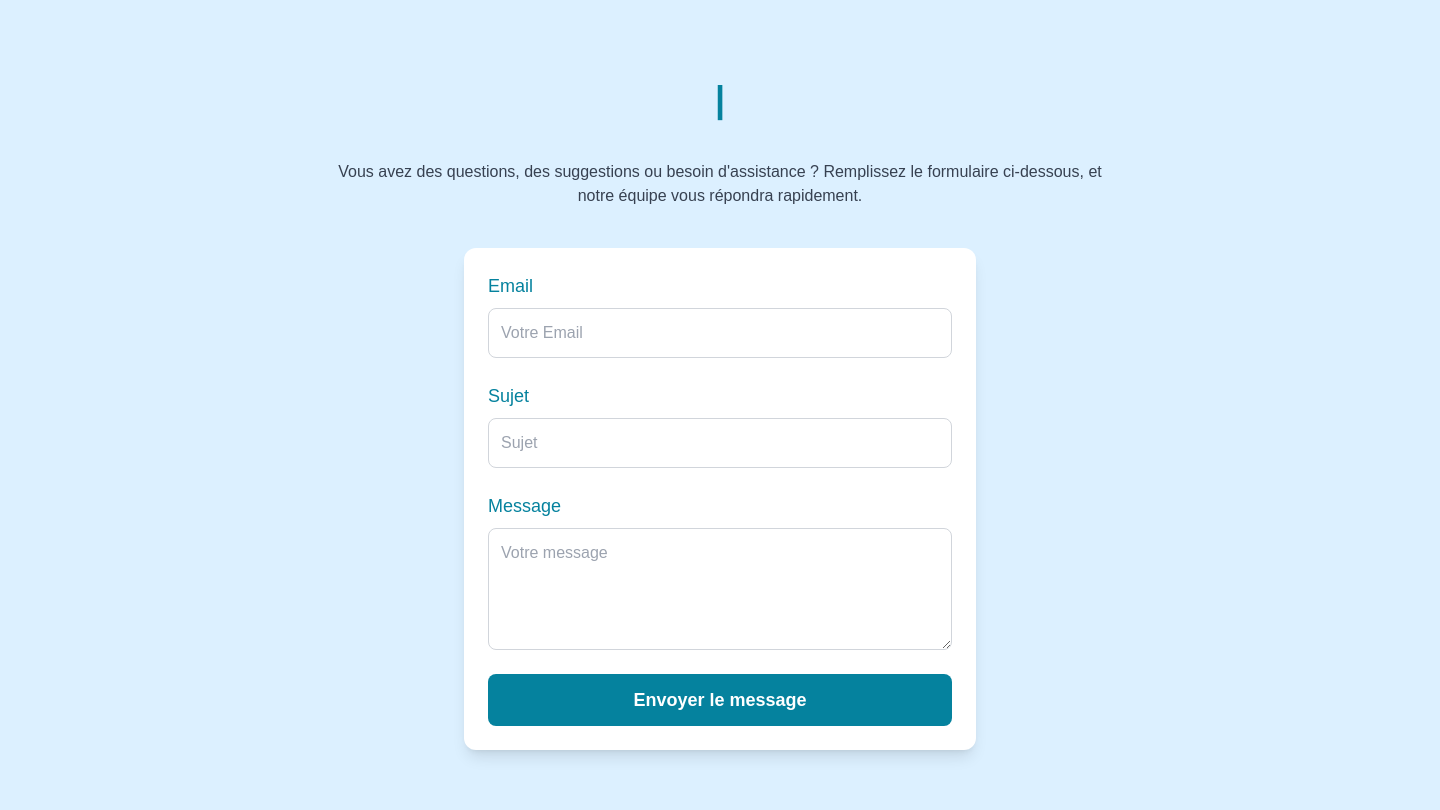
Test: Contact Component › envoie le formulaire avec succès et affiche un message de confirmation
The width and height of the screenshot is (1440, 810).
Type "test@example.com" into the field labelled "Email" at (720, 333), box top-left (488, 308), bottom-right (952, 358)
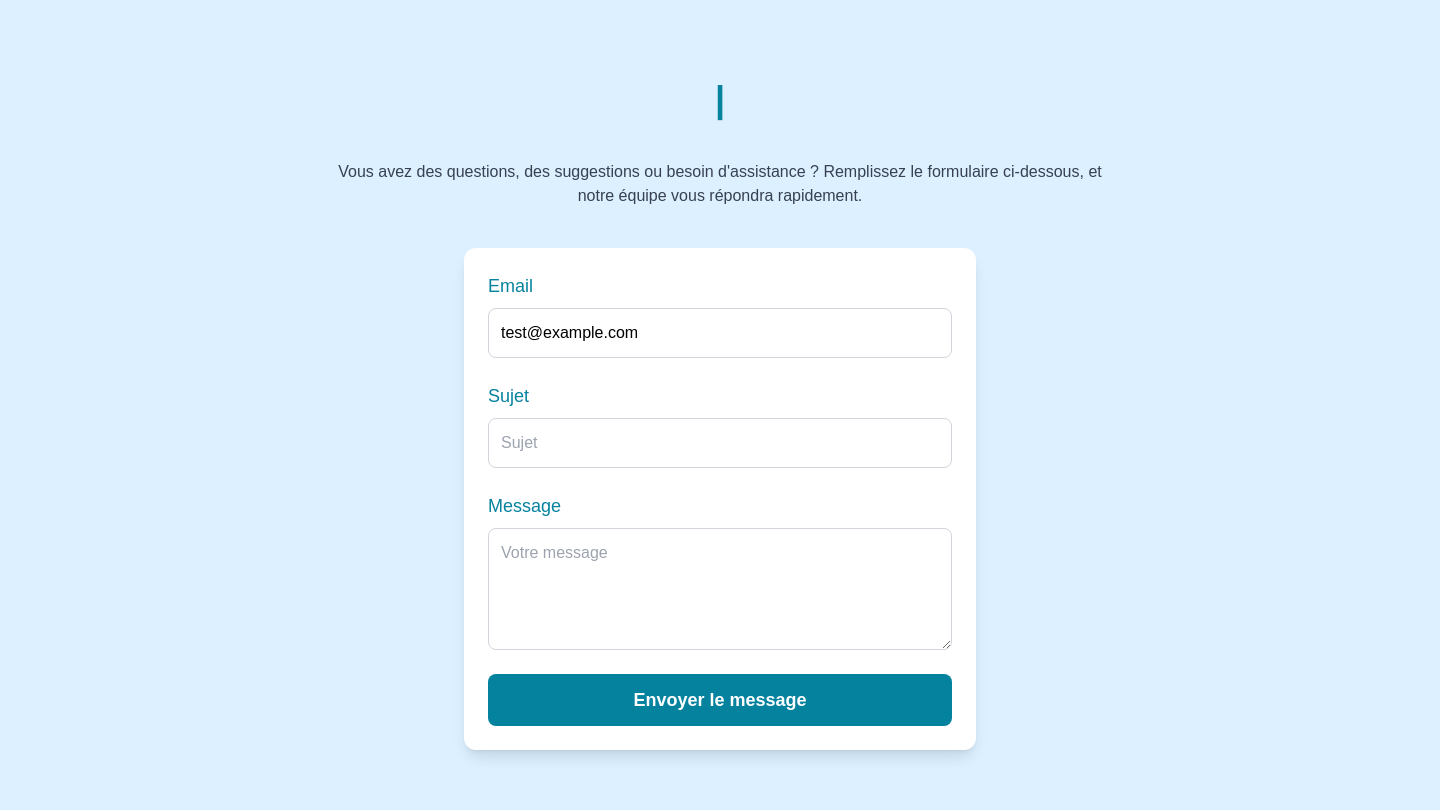
Type "Sujet test" into the field labelled "Sujet" at (720, 443), box top-left (488, 418), bottom-right (952, 468)
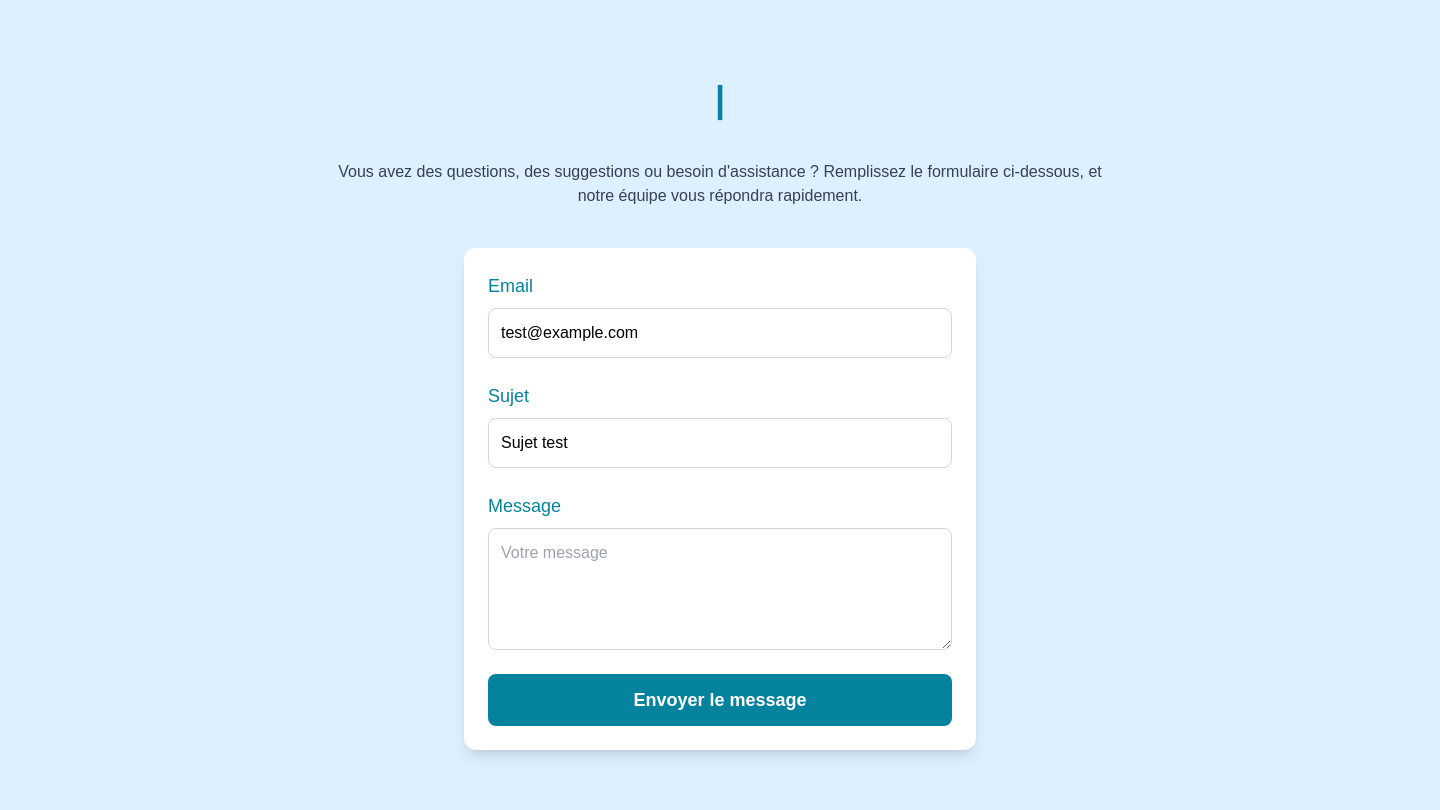
Type "Ceci est un message de test." into the text box labelled "Message" at (720, 589), box top-left (488, 528), bottom-right (952, 650)
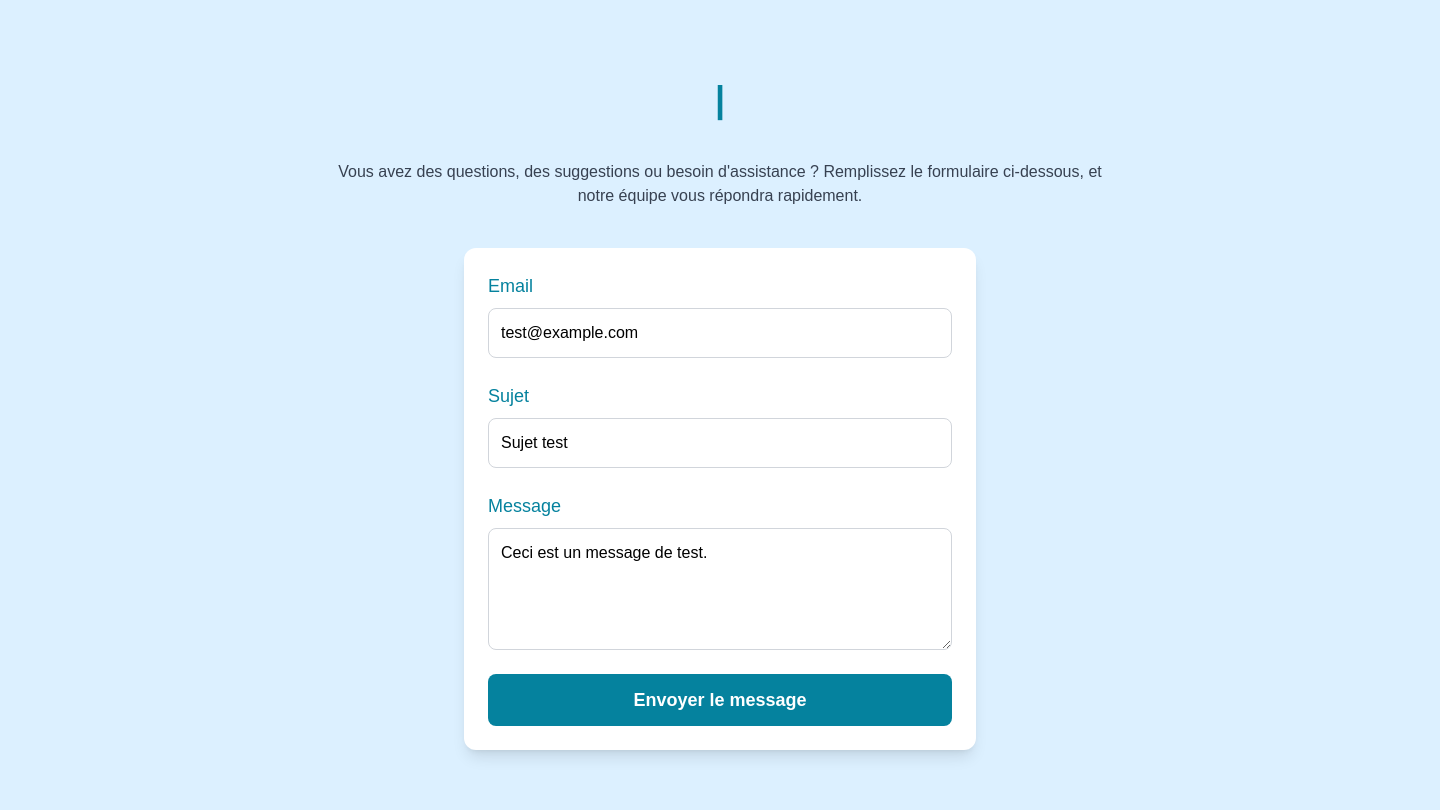
Click the button "Envoyer le message" at (720, 700), box top-left (488, 674), bottom-right (952, 726)
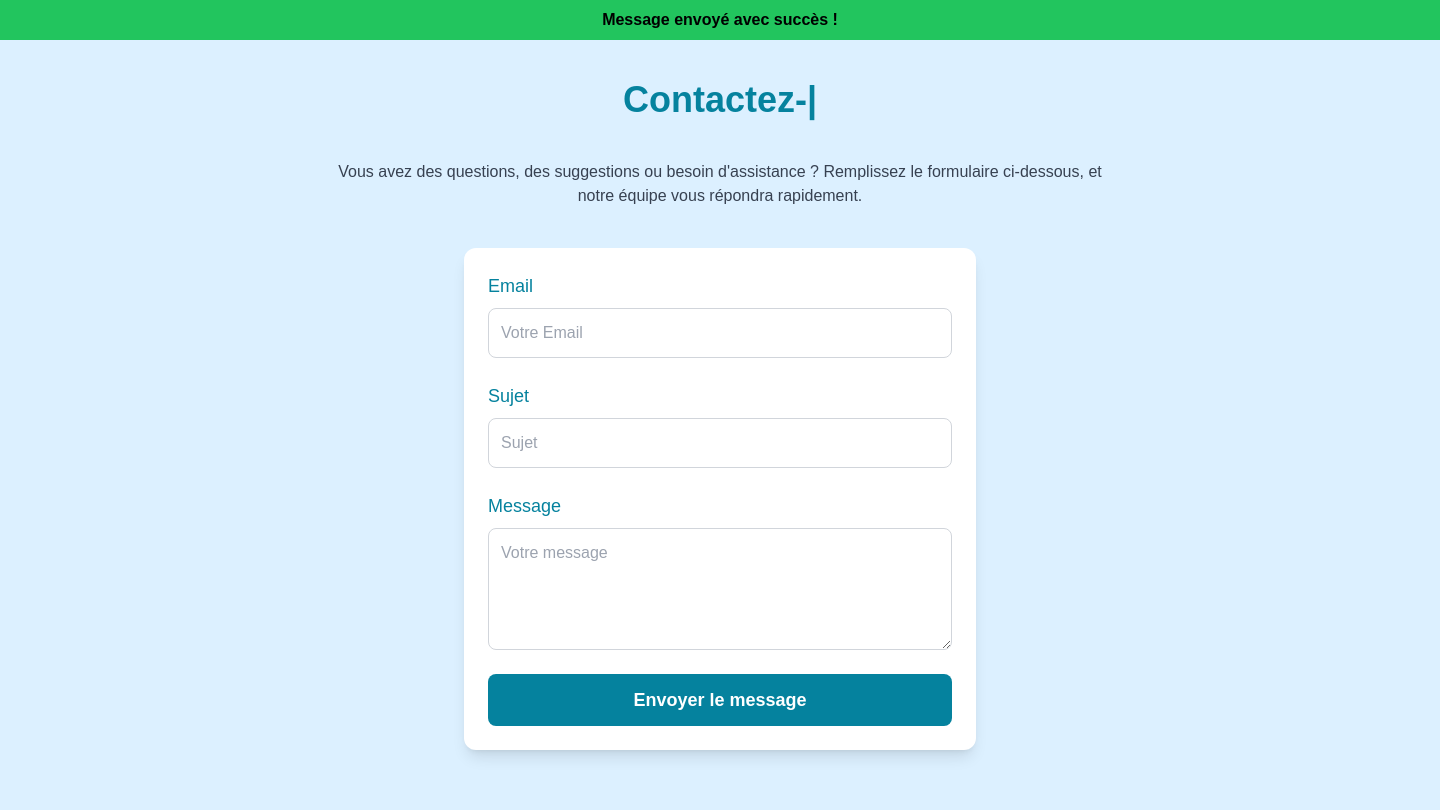
Check: the text "Message envoyé avec succès !" is shown, box top-left (602, 11), bottom-right (838, 28)
